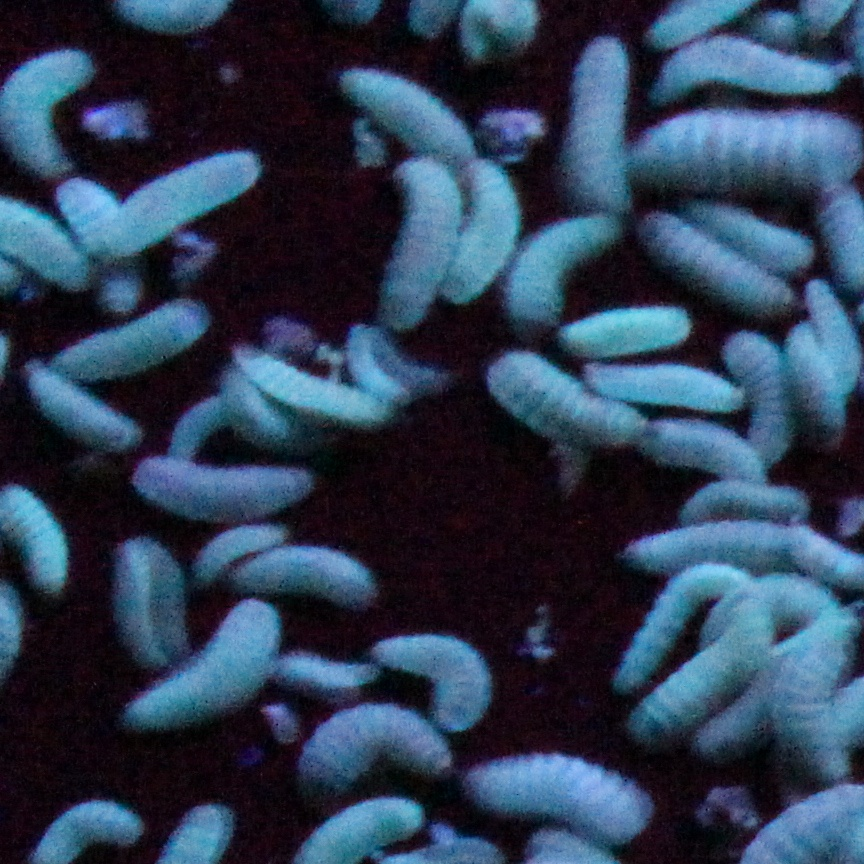larve: (123, 600, 284, 731), (632, 600, 772, 732), (103, 146, 266, 256), (606, 560, 737, 689), (635, 212, 798, 313), (468, 755, 660, 836), (332, 67, 477, 167), (296, 705, 451, 798), (648, 32, 853, 101), (487, 353, 646, 441), (382, 158, 460, 329), (53, 301, 208, 382), (1, 48, 94, 174), (234, 350, 392, 424), (565, 36, 632, 206), (511, 217, 615, 324), (137, 455, 316, 517), (377, 632, 491, 725), (444, 156, 515, 305), (116, 536, 189, 670), (29, 365, 139, 451), (1, 480, 79, 596), (642, 418, 765, 487), (618, 525, 794, 572), (691, 198, 816, 262), (234, 550, 377, 603), (789, 322, 851, 441), (589, 365, 749, 410), (556, 306, 694, 350), (192, 522, 284, 587), (346, 322, 413, 405), (672, 482, 808, 522)
